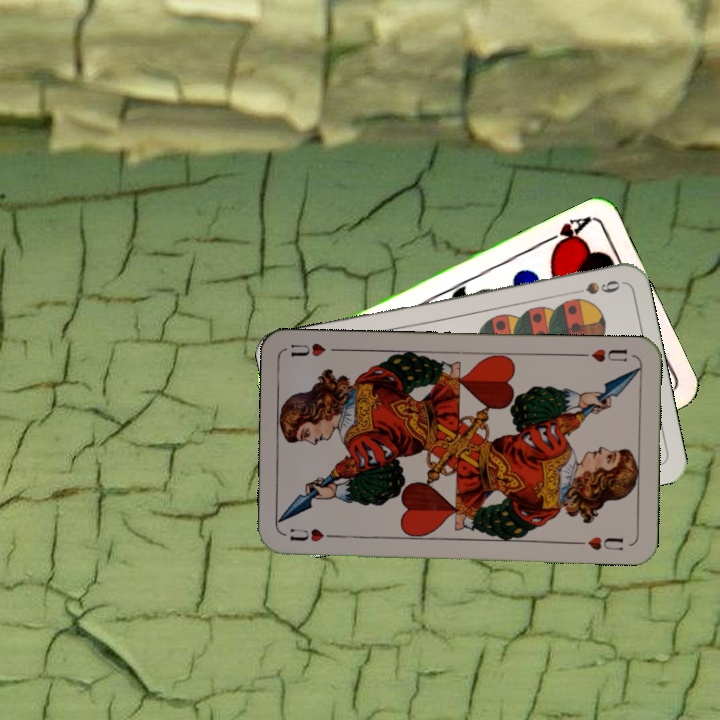HA: (538, 212, 593, 254)
HU: (286, 524, 341, 545), (576, 345, 630, 365)
S9: (578, 276, 623, 297)
